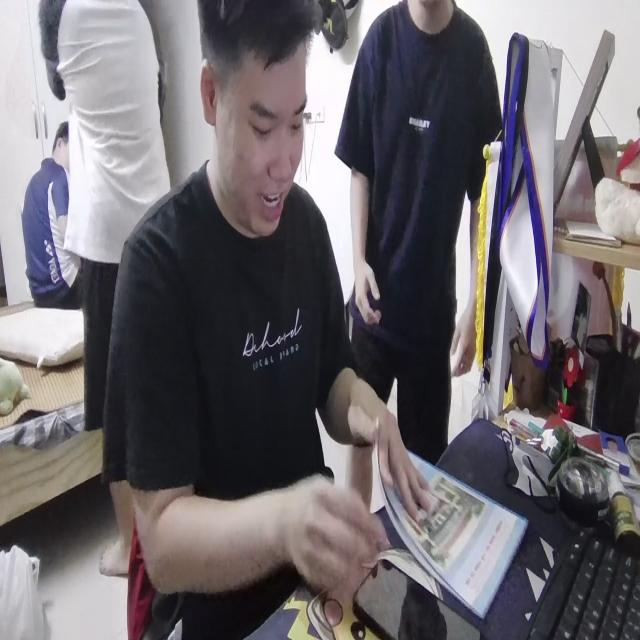book: (367, 414, 530, 616)
extra_person: (336, 0, 500, 490), (40, 0, 177, 456)
phone: (351, 552, 480, 640)
student: (106, 0, 431, 584)
